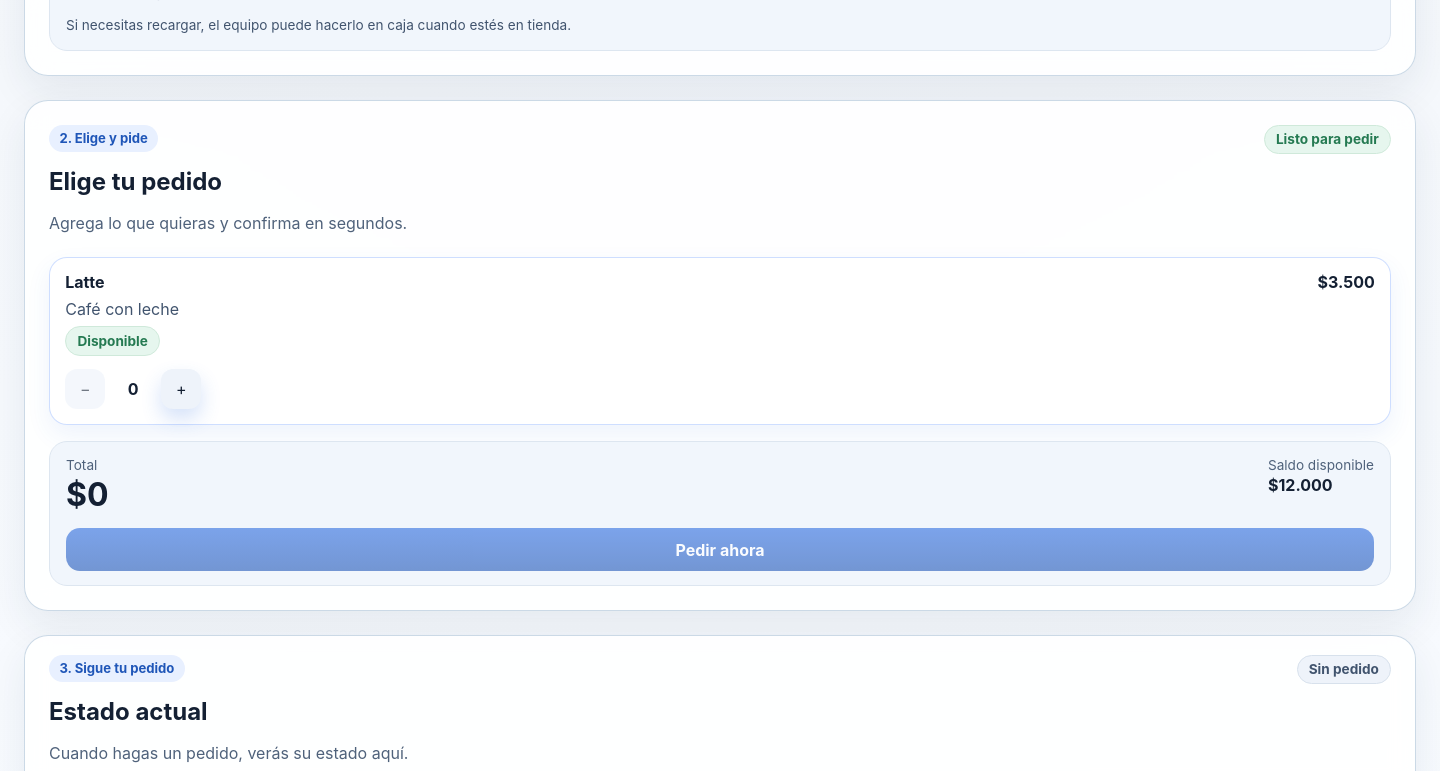
Test case: client page order actions › resets quantities, refreshes balance, and shows confirmation after a successful order
(page scrolled)
Click the button "+": coordinates (181, 389) [161,369,201,409]
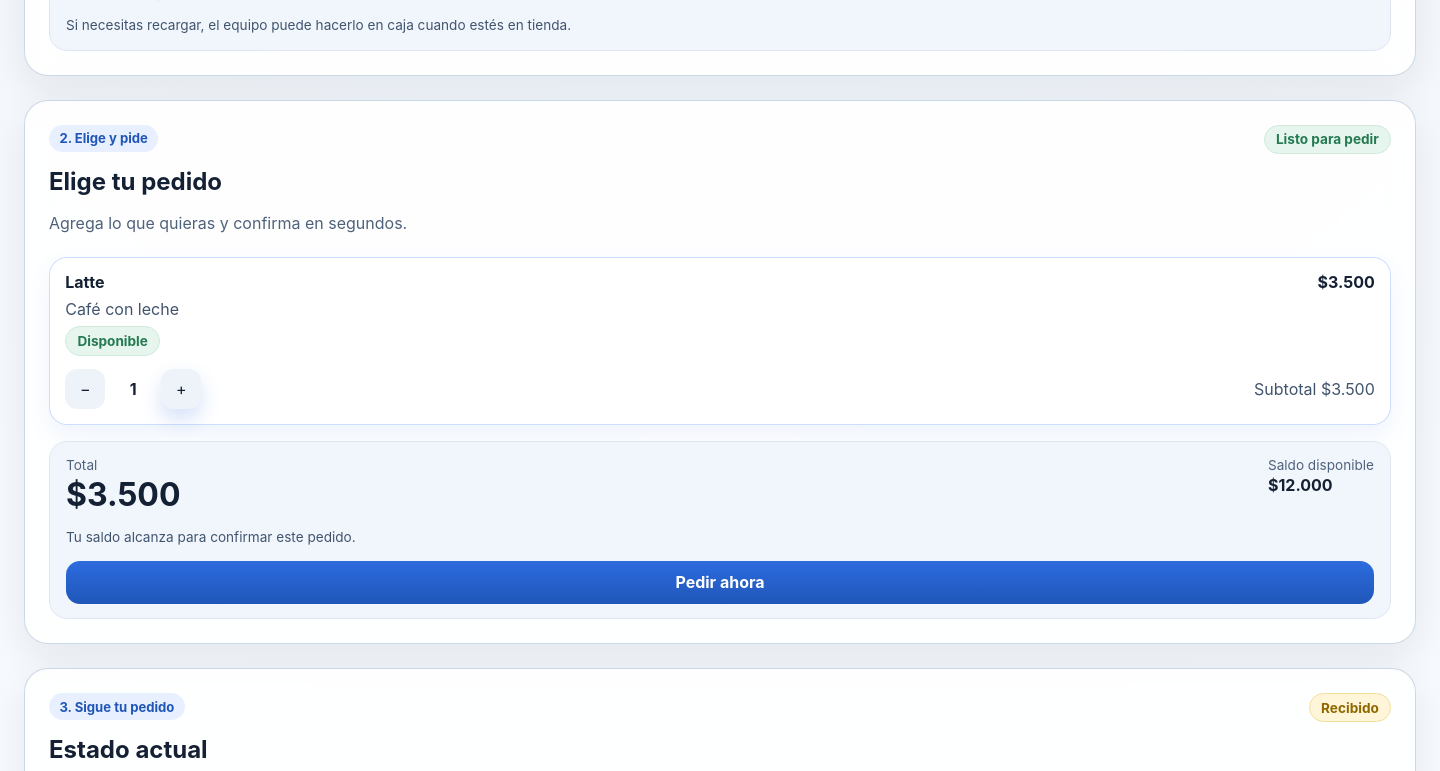
Click the button "Pedir ahora": coordinates (720, 582) [66,561,1374,604]
(page scrolled)
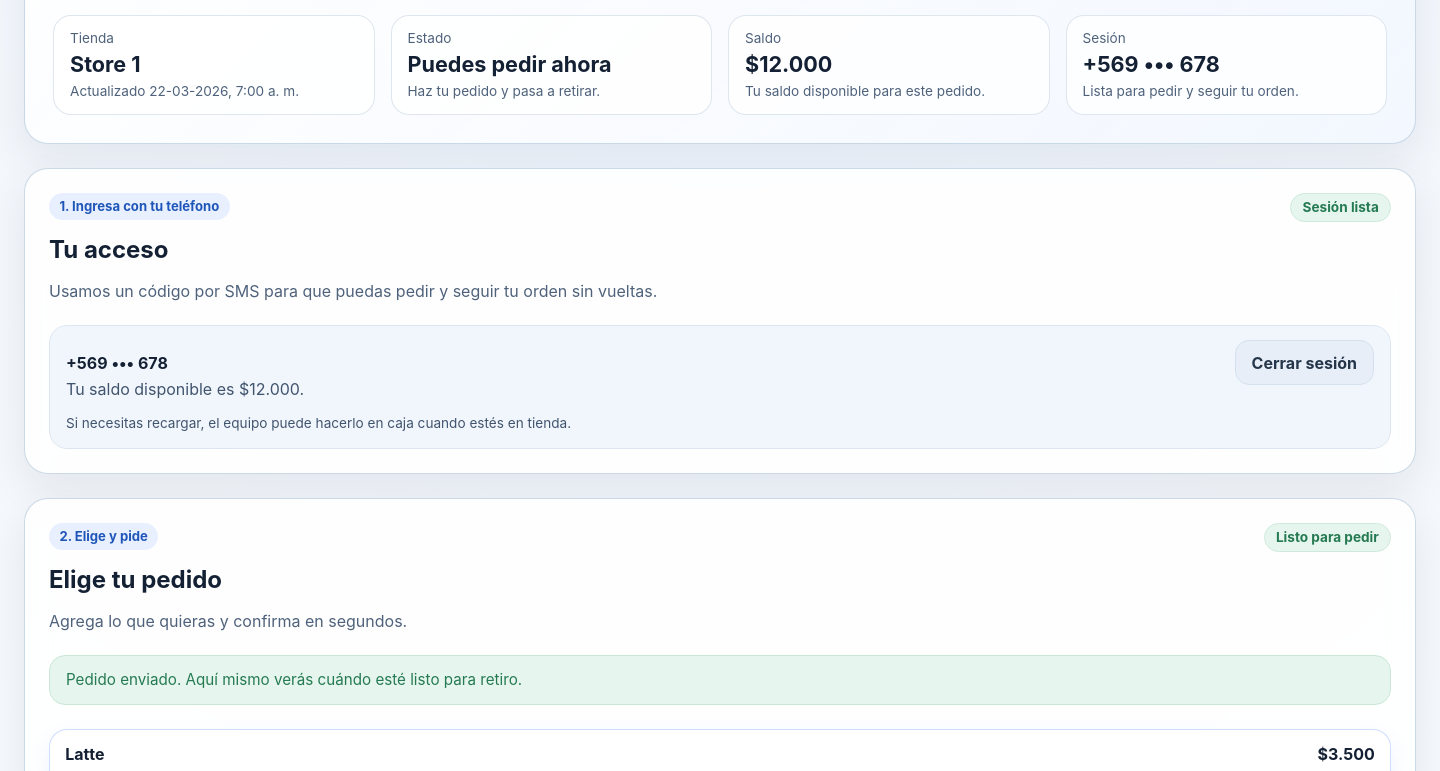
expect the text "Tu saldo disponible es $12.000." is shown: met, box [66,378,304,401]
expect the text "Pedido enviado. Aquí mismo verás cuándo esté listo para retiro." is shown: met, box [49,655,1391,704]
